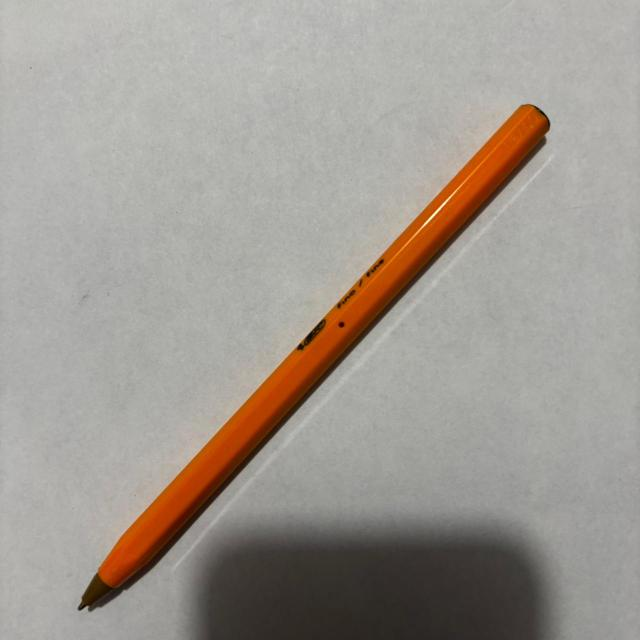pencil: (78, 104, 552, 612)
